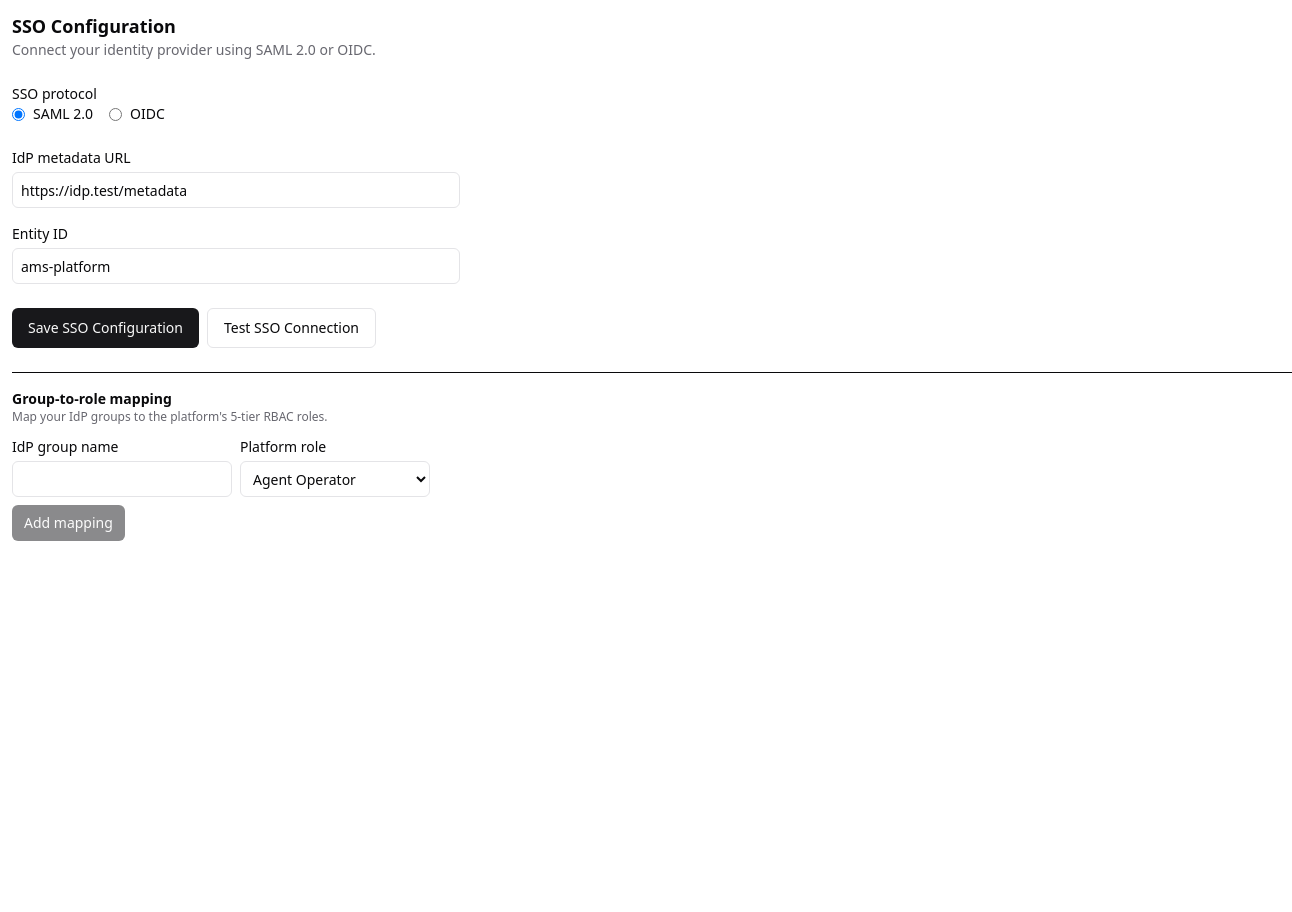
Scenario: StepSsoConfiguration — protocol-conditional rendering › Test SSO Connection is enabled once a configuration exists and shows a failure with per-check diagnostics
Click the button "Test SSO Connection" at (291, 328), box [207,308,376,348]
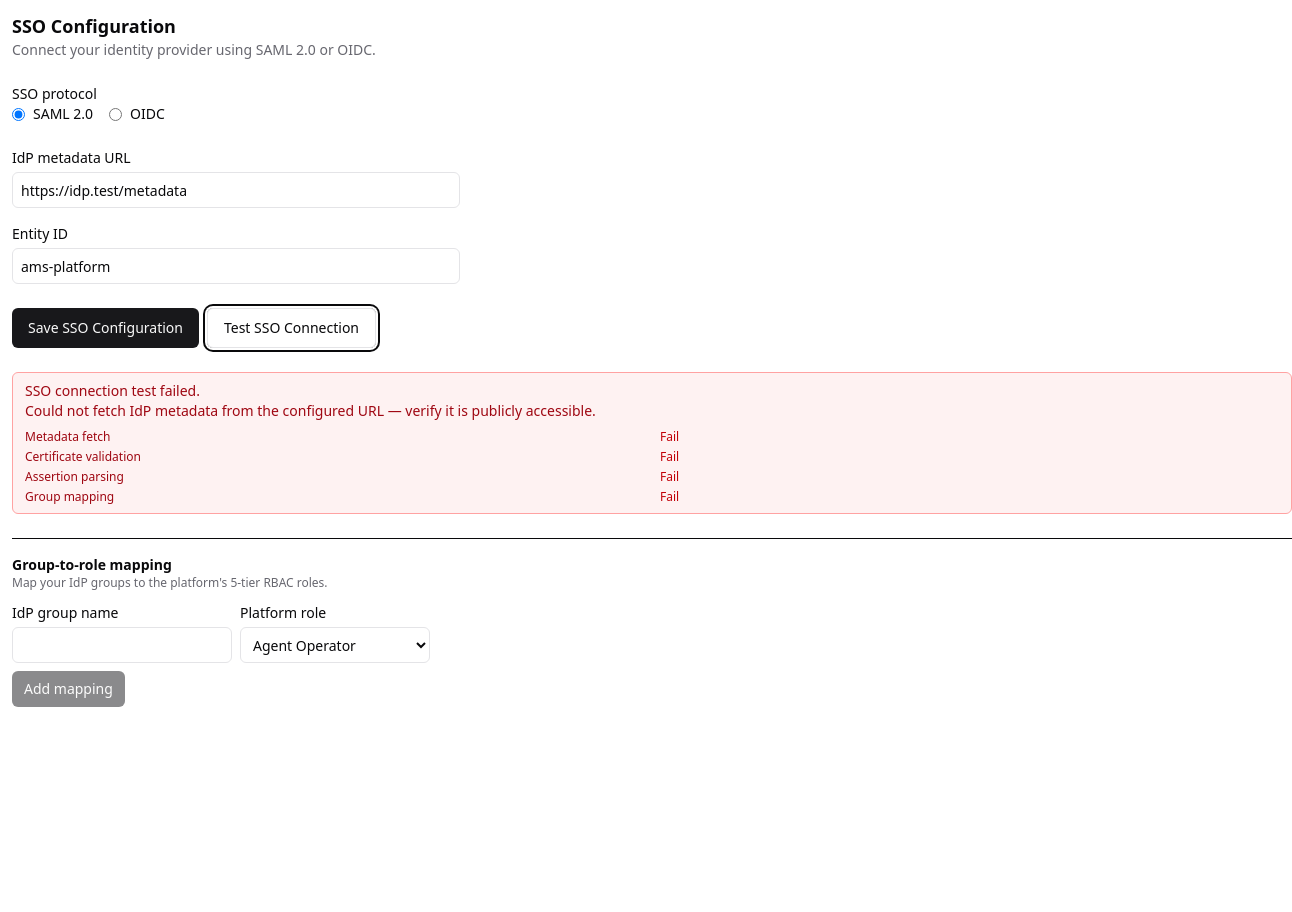
Result: the text "SSO connection test failed." is shown at [25,381,200,400]
Result: the text "Could not fetch IdP metadata from the configured URL — verify it is publicly accessible." is shown at [25,401,596,420]
